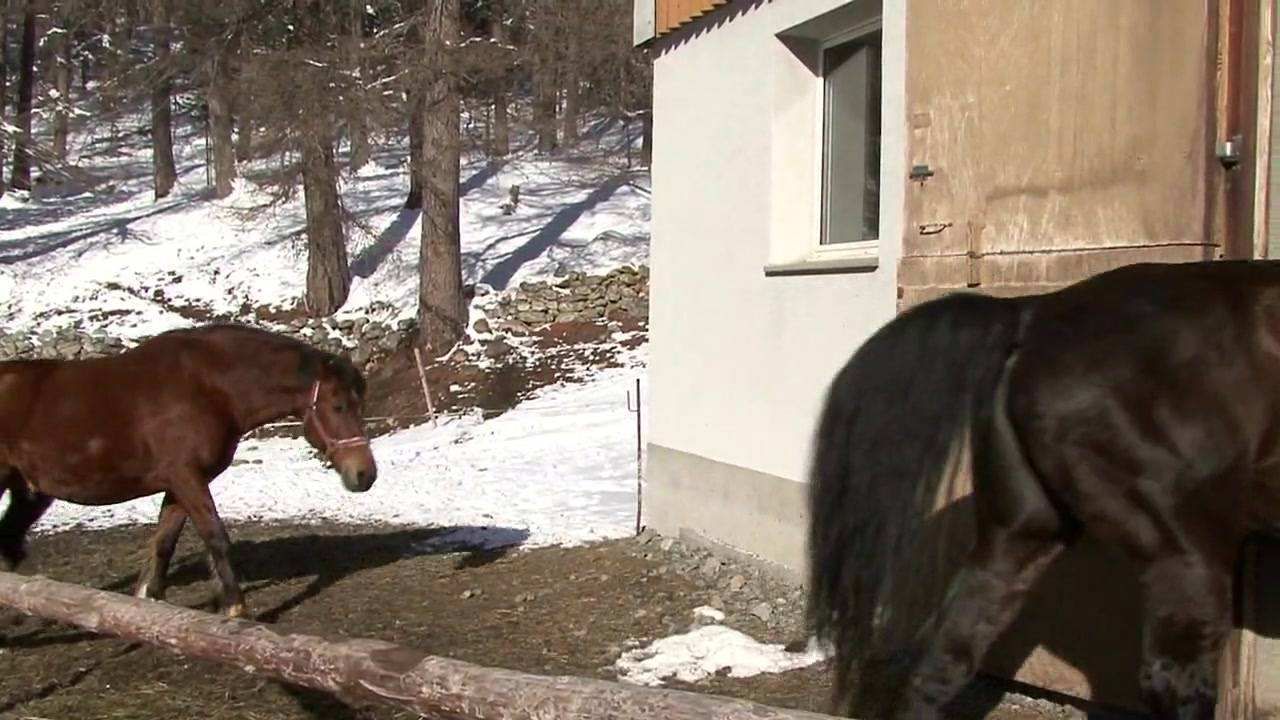horse: (1, 323, 380, 626)
